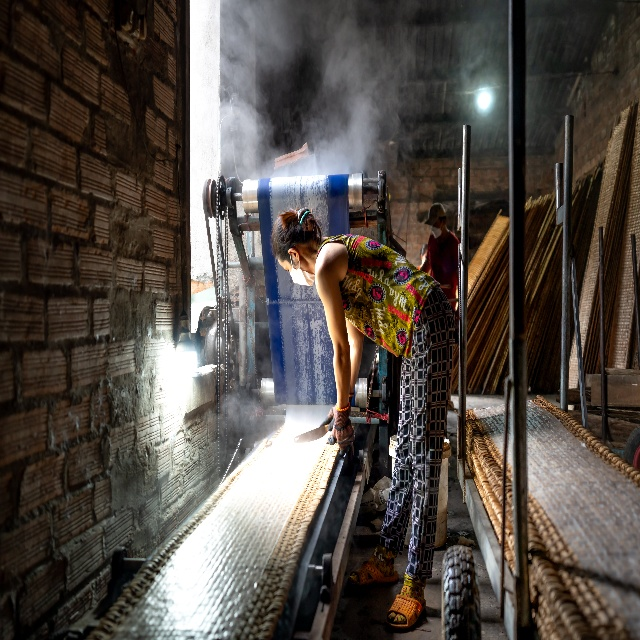Guantes: (319, 389, 356, 434), (329, 401, 355, 458)
Mascara: (288, 252, 316, 287), (431, 226, 442, 239)
